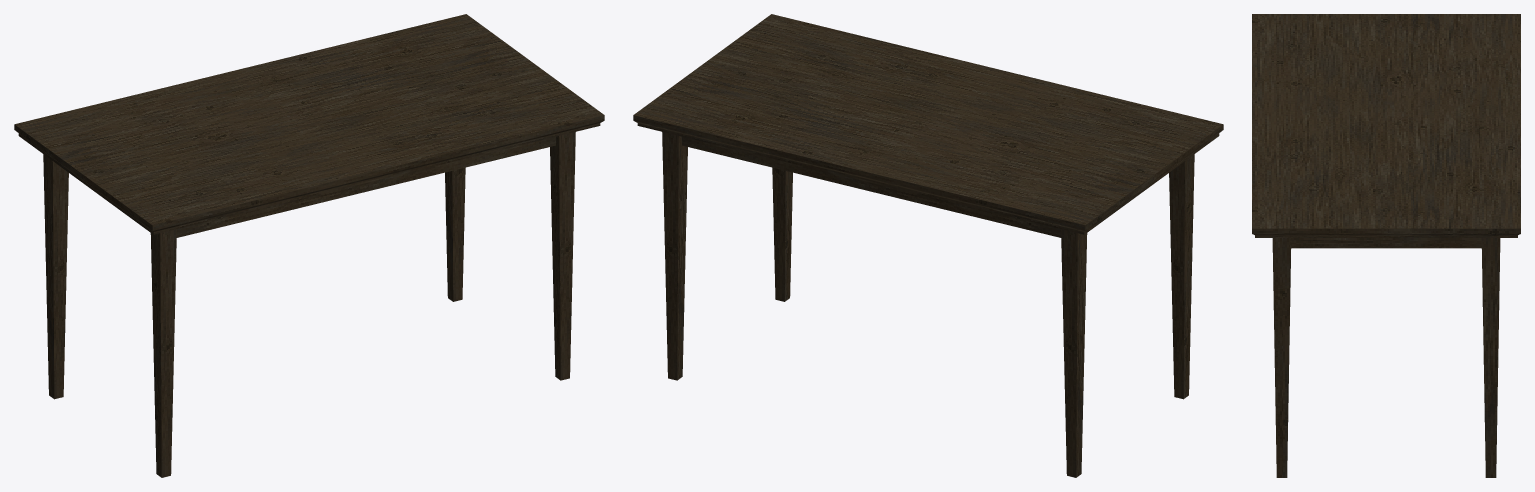
File: table_large_2_4.glb
3 renders of one model, left to right at view 1: azimuth 30°, elevation 25°; view 2: azimuth 150°, elevation 25°; view 3: azimuth 270°, elevation 25°, orthographic. The views are drawn at different scales.
Visible parts, largest first — view 1: table_large_2_4; view 2: table_large_2_4; view 3: table_large_2_4.
Boxes of the visible parts, x1,y1,x2,y2 form: table_large_2_4: (14, 14, 604, 477); table_large_2_4: (633, 14, 1223, 477); table_large_2_4: (1252, 14, 1520, 477).
Bounding box in the file's own units: 1.7 × 0.96 × 0.9.
1 material, 1 textured.
